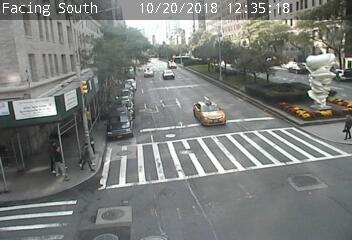car: (193, 101, 225, 126), (162, 69, 175, 79), (143, 66, 154, 77), (169, 61, 178, 69)
